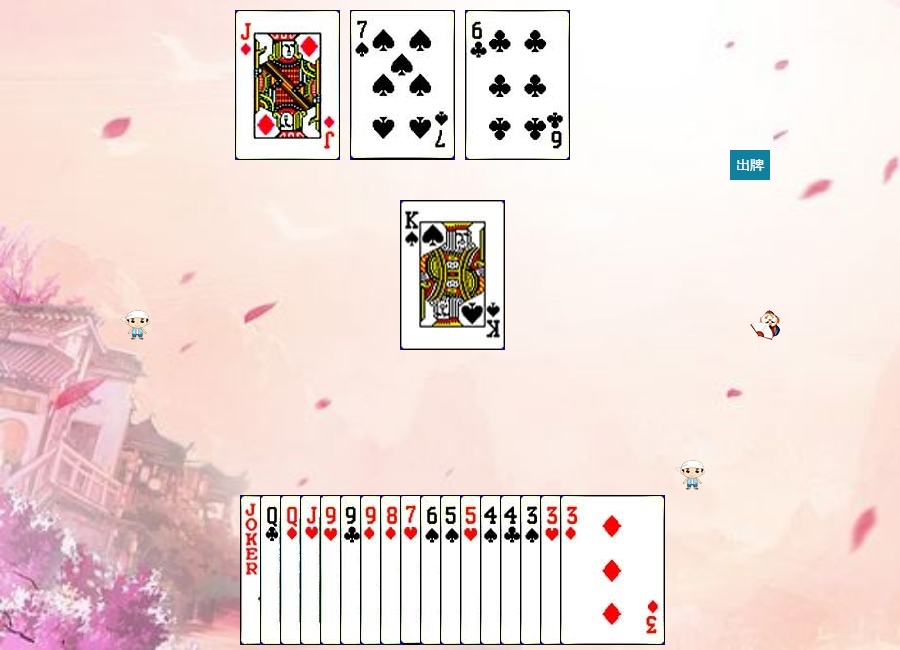11~1: (235, 10, 340, 160)
11~3: (300, 495, 405, 645)
12~1: (280, 495, 385, 645)
12~2: (260, 495, 365, 645)
13~4: (400, 200, 505, 350)
18~4: (240, 495, 345, 645)
3~1: (560, 495, 665, 645)
3~3: (540, 495, 645, 645)
3~4: (520, 495, 625, 645)
4~2: (500, 495, 605, 645)
4~4: (480, 495, 585, 645)
5~3: (460, 495, 565, 645)
5~4: (440, 495, 545, 645)
6~2: (465, 10, 570, 160)
6~4: (420, 495, 525, 645)
7~3: (400, 495, 505, 645)
7~4: (350, 10, 455, 160)
8~1: (380, 495, 485, 645)
9~1: (360, 495, 465, 645)
9~2: (340, 495, 445, 645)
9~3: (320, 495, 425, 645)
